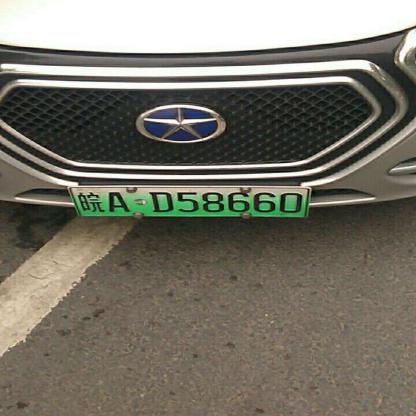lp: (70, 187, 308, 216)
